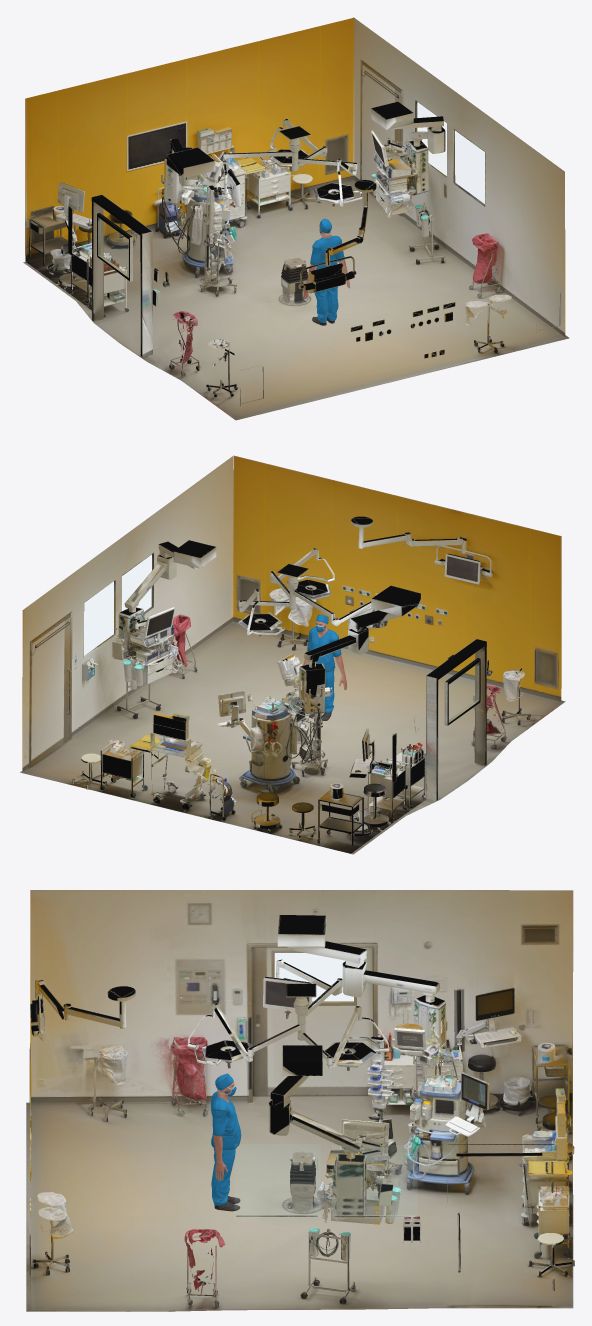
File: opertheatre.glb
The picture shows the model from 3 angles, top to bottom: view 1: azimuth 30°, elevation 25°; view 2: azimuth 150°, elevation 25°; view 3: azimuth 270°, elevation 25°; orthographic projection. The views are drawn at different scales.
Parts seen in each view (by area): view 1: OP_Mitte_Mitte_OP_Tex2_0, OP_Mitte_Mitte_OP_Tex1_0, OP_Mitte_Mitte_OP_Tex4_0 (×2), OP_Mitte_Mitte_OP_Tex3_0, Surgeon.obj; view 2: OP_Mitte_Mitte_OP_Tex1_0, OP_Mitte_Mitte_OP_Tex2_0, OP_Mitte_Mitte_OP_Tex4_0 (×2), OP_Mitte_Mitte_OP_Tex3_0, Surgeon.obj; view 3: OP_Mitte_Mitte_OP_Tex4_0 (×2), OP_Mitte_Mitte_OP_Tex2_0, OP_Mitte_Mitte_OP_Tex3_0, OP_Mitte_Mitte_OP_Tex1_0, Surgeon.obj.
Boxes of the visible parts, x1=… form: OP_Mitte_Mitte_OP_Tex2_0: x1=23, y1=17, x2=569, y2=420; OP_Mitte_Mitte_OP_Tex1_0: x1=30, y1=17, x2=565, y2=405; OP_Mitte_Mitte_OP_Tex4_0 (×2): x1=32, y1=60, x2=504, y2=397; OP_Mitte_Mitte_OP_Tex3_0: x1=29, y1=123, x2=507, y2=393; Surgeon.obj: x1=303, y1=218, x2=350, y2=325; OP_Mitte_Mitte_OP_Tex1_0: x1=22, y1=455, x2=561, y2=836; OP_Mitte_Mitte_OP_Tex2_0: x1=20, y1=540, x2=565, y2=854; OP_Mitte_Mitte_OP_Tex4_0 (×2): x1=30, y1=518, x2=530, y2=843; OP_Mitte_Mitte_OP_Tex3_0: x1=30, y1=516, x2=529, y2=845; Surgeon.obj: x1=303, y1=614, x2=347, y2=720; OP_Mitte_Mitte_OP_Tex4_0 (×2): x1=30, y1=890, x2=574, y2=1306; OP_Mitte_Mitte_OP_Tex2_0: x1=26, y1=944, x2=573, y2=1311; OP_Mitte_Mitte_OP_Tex3_0: x1=30, y1=941, x2=574, y2=1294; OP_Mitte_Mitte_OP_Tex1_0: x1=29, y1=920, x2=570, y2=1297; Surgeon.obj: x1=211, y1=1073, x2=241, y2=1211.
Size of the model in its own units: 6.42 by 2.98 by 7.
6 materials, 5 textured.
